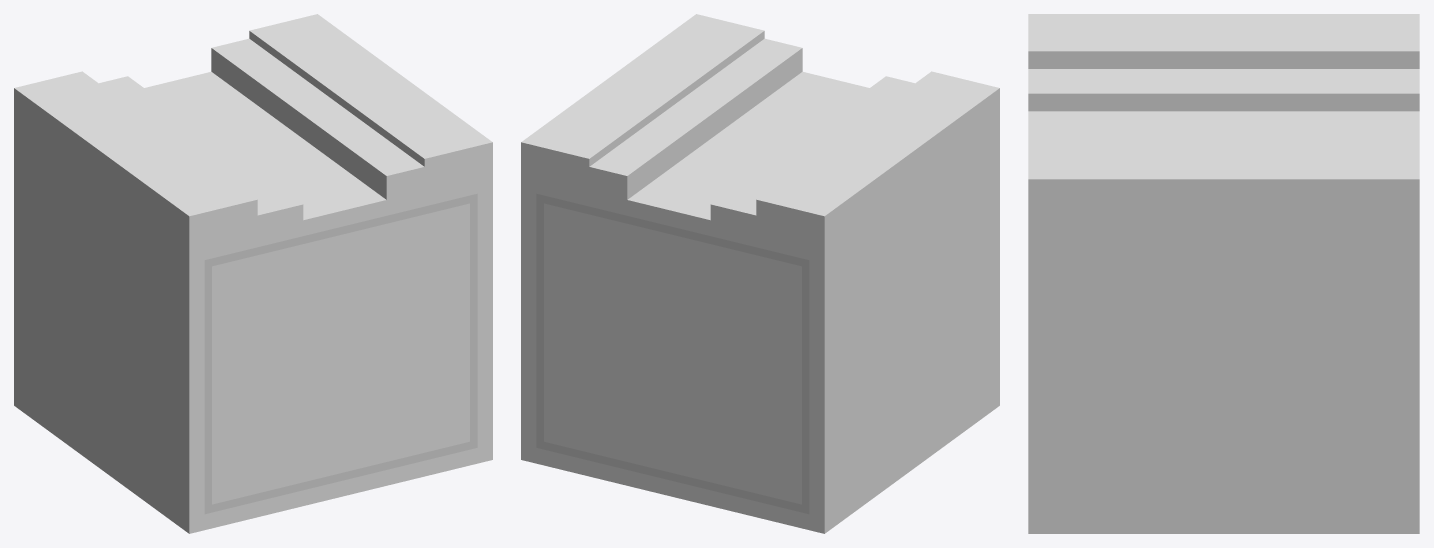
The model's file is MuroTopSimple.FBX.
3 views of the same model, side by side, from view 1: azimuth 30°, elevation 25°; view 2: azimuth 150°, elevation 25°; view 3: azimuth 270°, elevation 25° (orthographic). The views are drawn at different scales.
Visible parts, largest first — view 1: MuroTopSimple; view 2: MuroTopSimple; view 3: MuroTopSimple.
Part boxes in pixels (bbox=[...]): MuroTopSimple: bbox=[14, 14, 492, 533]; MuroTopSimple: bbox=[521, 14, 999, 533]; MuroTopSimple: bbox=[1028, 14, 1419, 533].
Size of the model in its own units: 1 by 1 by 1.
1 material, 1 textured.
